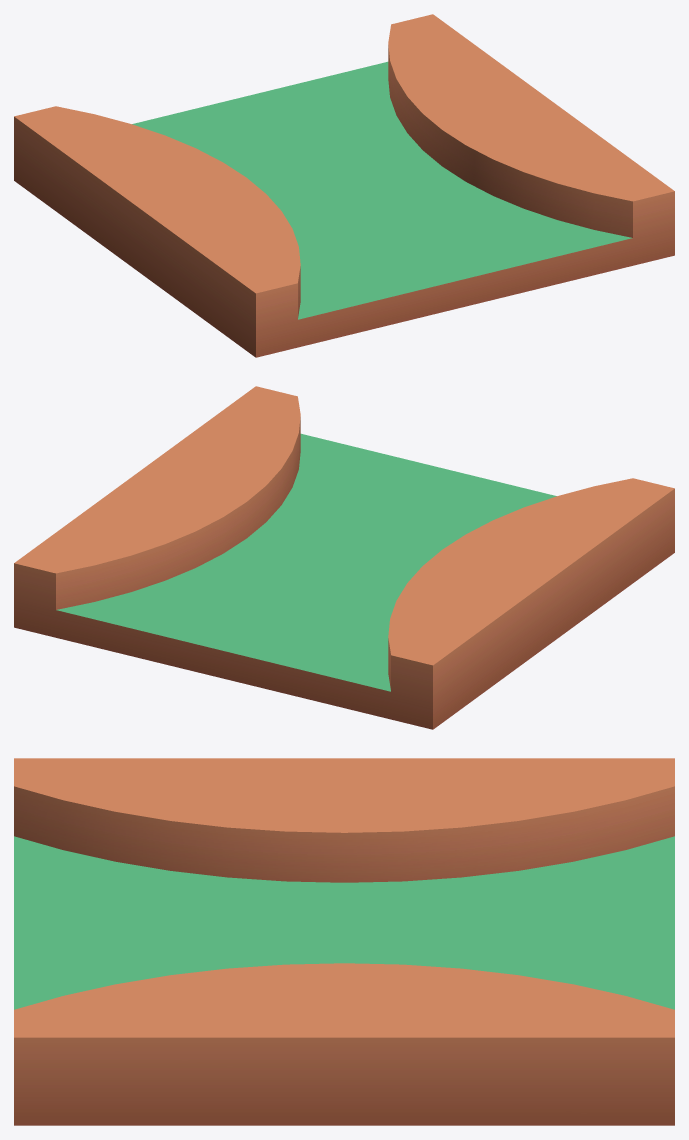
File: narrow-round.glb
3 renders of one model, top to bottom at view 1: azimuth 30°, elevation 25°; view 2: azimuth 150°, elevation 25°; view 3: azimuth 270°, elevation 25°, orthographic. The views are drawn at different scales.
Visible parts, largest first — view 1: narrow-round; view 2: narrow-round; view 3: narrow-round.
Boxes of the visible parts, x1,y1,x2,y2 form: narrow-round: [14, 14, 674, 357]; narrow-round: [14, 386, 674, 729]; narrow-round: [14, 758, 674, 1125].
Bounding box in the file's own units: 0.9999 × 0.1466 × 0.9999.
Materials: 1 (1 with a texture image).
